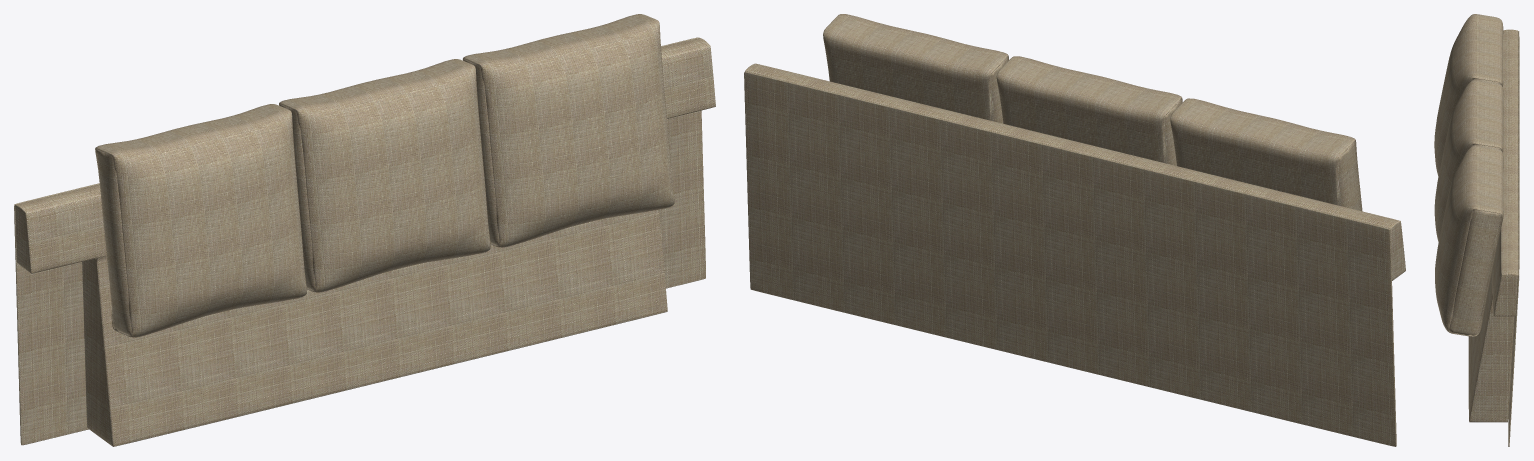
Rendered from burtonjames_536sofa_cushionback.gltf.
3 renders of one model, left to right at view 1: azimuth 30°, elevation 25°; view 2: azimuth 150°, elevation 25°; view 3: azimuth 270°, elevation 25°, orthographic. The views are drawn at different scales.
Visible parts, largest first — view 1: burtonjames_536sofa_cushionback; view 2: burtonjames_536sofa_cushionback; view 3: burtonjames_536sofa_cushionback.
Boxes of the visible parts, x1=… form: burtonjames_536sofa_cushionback: x1=14, y1=14, x2=715, y2=446; burtonjames_536sofa_cushionback: x1=744, y1=14, x2=1405, y2=446; burtonjames_536sofa_cushionback: x1=1434, y1=14, x2=1519, y2=446.
Size of the model in its own units: 2540 by 1039 by 374.
1 material, 1 textured.
